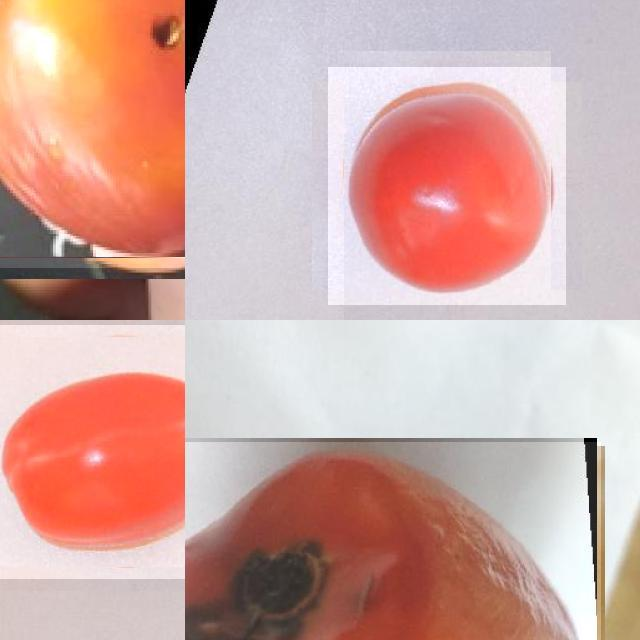Fresh Tomato: (328, 67, 566, 306), (0, 324, 185, 579)
Rotten Tomato: (185, 442, 601, 640), (0, 0, 185, 268)
